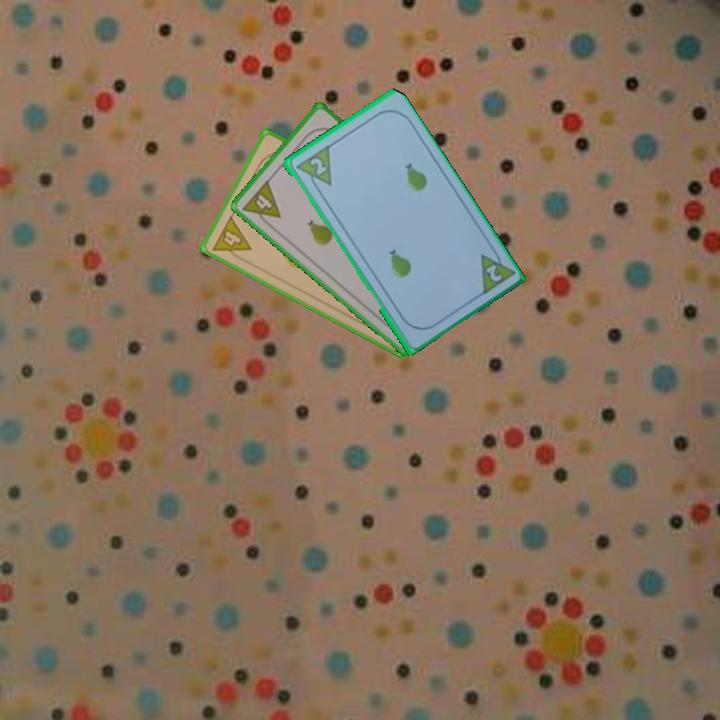2p: (306, 154, 329, 178), (482, 261, 504, 285)
4p: (238, 176, 284, 231), (209, 212, 254, 265)
